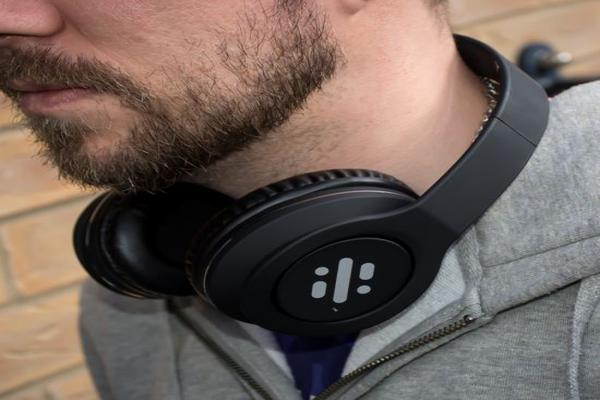headphone: (37, 22, 553, 391)
